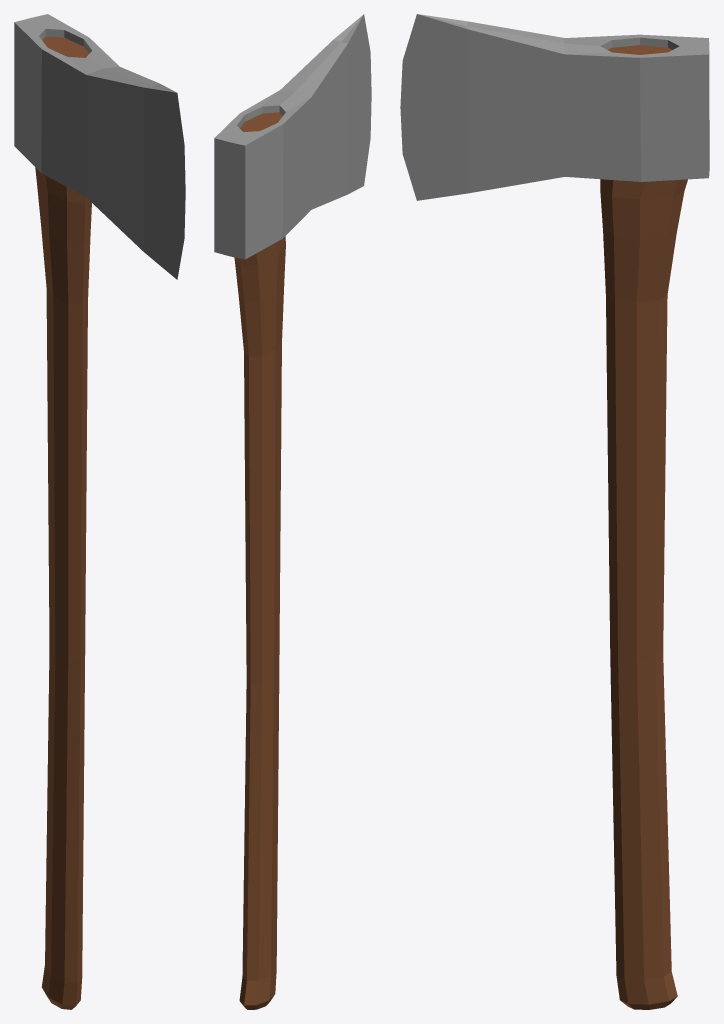
Rendered from axe02.obj.
3 views of the same model, side by side, from view 1: azimuth 30°, elevation 25°; view 2: azimuth 150°, elevation 25°; view 3: azimuth 270°, elevation 25° (orthographic). The views are drawn at different scales.
Parts seen in each view (by area): view 1: Cylinder.001_Cylinder.002; view 2: Cylinder.001_Cylinder.002; view 3: Cylinder.001_Cylinder.002.
Part boxes in pixels (bbox=[...]): Cylinder.001_Cylinder.002: bbox=[14, 14, 185, 1009]; Cylinder.001_Cylinder.002: bbox=[214, 14, 371, 1009]; Cylinder.001_Cylinder.002: bbox=[400, 14, 709, 1009].
Size of the model in its own units: 0.0445 by 0.8896 by 0.2511.
1 material, 1 textured.
